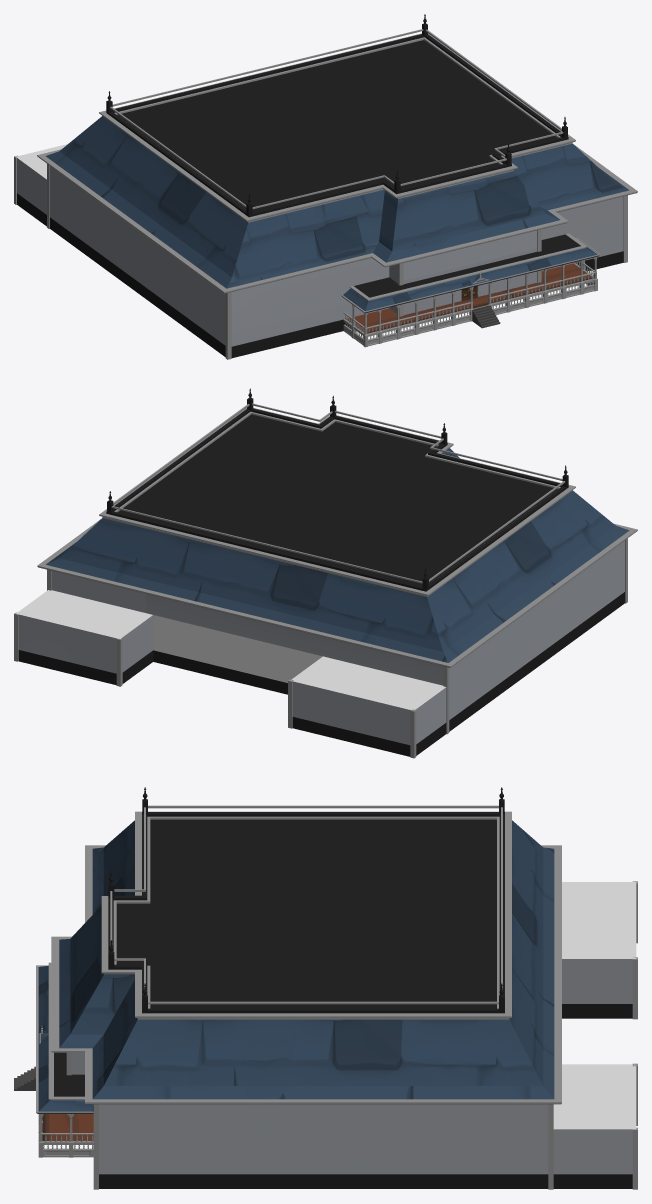
The model's file is House.fbx.
3 views of the same model, one above another, from view 1: azimuth 30°, elevation 25°; view 2: azimuth 150°, elevation 25°; view 3: azimuth 270°, elevation 25° (orthographic). The views are drawn at different scales.
Visible parts, largest first — view 1: Roof, 1&2FWalls, VerandRoof, 1FFloor, VerandDecor, RoofPicks, Verand, VerandColumns; view 2: Roof, 1&2FWalls, 1FFloor, 2FFloor, RoofPicks; view 3: Roof, 1&2FWalls, 1FFloor, 2FFloor, RoofPicks, VerandRoof, Verand, VerandDecor.
Boxes of the visible parts, x1,y1,x2,y2 form: Roof: (37,33,637,293); 1&2FWalls: (14,144,627,359); VerandRoof: (341,233,600,313); 1FFloor: (17,193,623,358); VerandDecor: (343,261,594,346); RoofPicks: (106,14,567,215); Verand: (346,263,593,333); VerandColumns: (351,257,597,347); Roof: (37,408,637,667); 1&2FWalls: (14,538,627,758); 1FFloor: (18,592,624,756); 2FFloor: (27,591,439,705); RoofPicks: (107,388,568,589); Roof: (51,811,561,1104); 1&2FWalls: (66,881,637,1189); 1FFloor: (99,1004,632,1188); 2FFloor: (553,886,625,1124); RoofPicks: (108,787,504,1010); VerandRoof: (36,962,93,1113); Verand: (14,1066,93,1140); VerandDecor: (39,1122,93,1157).
Size of the model in its own units: 5626 by 1836 by 5772.
